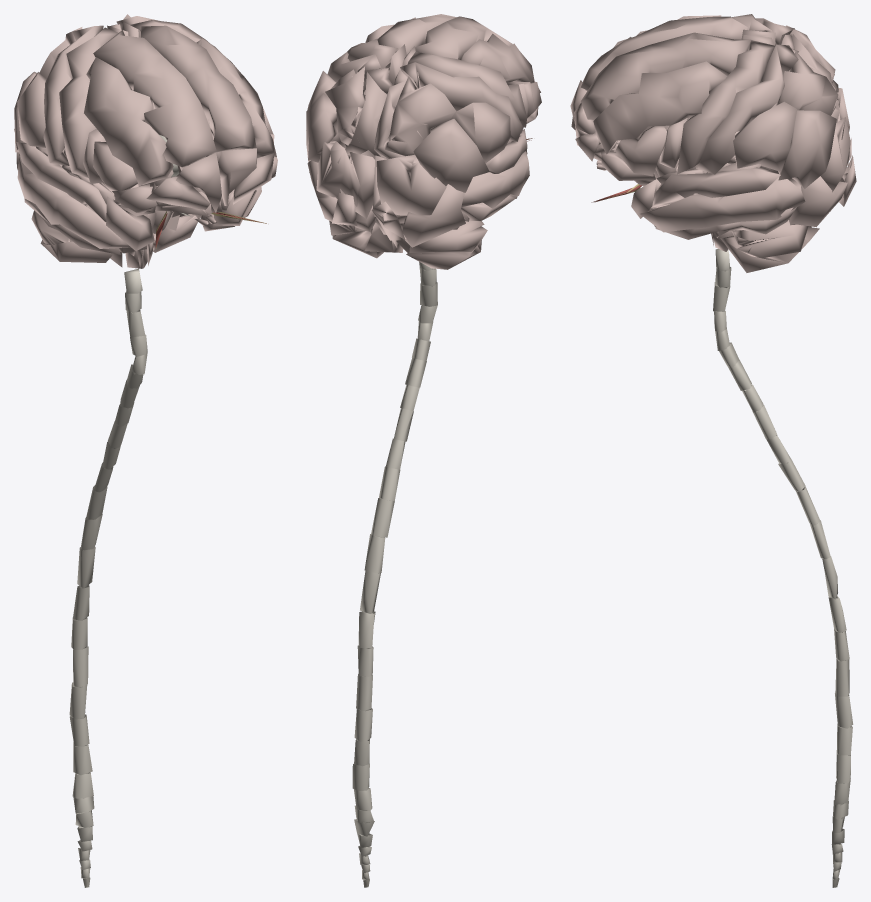
The model's file is adult_female.nervous.LOD4.glb.
3 renders of one model, left to right at view 1: azimuth 30°, elevation 25°; view 2: azimuth 150°, elevation 25°; view 3: azimuth 270°, elevation 25°, orthographic. The views are drawn at different scales.
Parts seen in each view (by area): view 1: ADULT.FEMALE.NERVOUS.SUPERIOR_FRONTAL_GYRUS.R, ADULT.FEMALE.NERVOUS.MIDDLE_FRONTAL_GYRUS.R, ADULT.FEMALE.NERVOUS.SUPERIOR_FRONTAL_GYRUS.L, ADULT.FEMALE.NERVOUS.PRECENTRAL_GYRUS.R, ADULT.FEMALE.NERVOUS.MIDDLE_TEMPORAL_GYRUS.R, ADULT.FEMALE.NERVOUS.POSTCENTRAL_GYRUS.R, ADULT.FEMALE.NERVOUS.SUPERIOR_TEMPORAL_GYRUS.R, ADULT.FEMALE.NERVOUS.MIDDLE_FRONTAL_GYRUS.L, ADULT.FEMALE.NERVOUS.SUPRAMARGINAL_GYRUS.R, ADULT.FEMALE.NERVOUS.LATERAL_HEMISPHERE_OF_CEREBELLUM.R, ADULT.FEMALE.NERVOUS.TEMPORAL_POLE.R, ADULT.FEMALE.NERVOUS.ROSTRAL_GYRUS.R (+12 smaller); view 2: ADULT.FEMALE.NERVOUS.ANGULAR_GYRUS.R, ADULT.FEMALE.NERVOUS.SUPRAPARIETAL_LOBULE.R, ADULT.FEMALE.NERVOUS.SUPERIOR_OCCIPITAL_GYRUS.R, ADULT.FEMALE.NERVOUS.POSTCENTRAL_GYRUS.R, ADULT.FEMALE.NERVOUS.LATERAL_HEMISPHERE_OF_CEREBELLUM.R, ADULT.FEMALE.NERVOUS.SUPRAMARGINAL_GYRUS.R, ADULT.FEMALE.NERVOUS.SUPERIOR_FRONTAL_GYRUS.R, ADULT.FEMALE.NERVOUS.INFERIOR_OCCIPITAL_GYRUS.R, ADULT.FEMALE.NERVOUS.PRECENTRAL_GYRUS.R, ADULT.FEMALE.NERVOUS.MIDDLE_FRONTAL_GYRUS.R, ADULT.FEMALE.NERVOUS.MIDDLE_TEMPORAL_GYRUS.R, ADULT.FEMALE.NERVOUS.SUPERIOR_OCCIPITAL_GYRUS.L (+22 smaller); view 3: ADULT.FEMALE.NERVOUS.MIDDLE_FRONTAL_GYRUS.L, ADULT.FEMALE.NERVOUS.SUPERIOR_FRONTAL_GYRUS.L, ADULT.FEMALE.NERVOUS.MIDDLE_TEMPORAL_GYRUS.L, ADULT.FEMALE.NERVOUS.PRECENTRAL_GYRUS.L, ADULT.FEMALE.NERVOUS.POSTCENTRAL_GYRUS.L, ADULT.FEMALE.NERVOUS.SUPRAMARGINAL_GYRUS.L, ADULT.FEMALE.NERVOUS.ANGULAR_GYRUS.L, ADULT.FEMALE.NERVOUS.SUPERIOR_TEMPORAL_GYRUS.L, ADULT.FEMALE.NERVOUS.LATERAL_HEMISPHERE_OF_CEREBELLUM.L, ADULT.FEMALE.NERVOUS.SUPERIOR_FRONTAL_GYRUS.R, ADULT.FEMALE.NERVOUS.SUPRAPARIETAL_LOBULE.L, ADULT.FEMALE.NERVOUS.INFERIOR_FRONTAL_GYRUS_TRIANGULAR_PART. (+6 smaller).
Part boxes in pixels (x1,y1,x2,y2): ADULT.FEMALE.NERVOUS.SUPERIOR_FRONTAL_GYRUS.R: (93, 30, 216, 167); ADULT.FEMALE.NERVOUS.MIDDLE_FRONTAL_GYRUS.R: (84, 57, 173, 185); ADULT.FEMALE.NERVOUS.SUPERIOR_FRONTAL_GYRUS.L: (141, 25, 256, 152); ADULT.FEMALE.NERVOUS.PRECENTRAL_GYRUS.R: (59, 27, 117, 177); ADULT.FEMALE.NERVOUS.MIDDLE_TEMPORAL_GYRUS.R: (17, 154, 130, 248); ADULT.FEMALE.NERVOUS.POSTCENTRAL_GYRUS.R: (43, 25, 103, 165); ADULT.FEMALE.NERVOUS.SUPERIOR_TEMPORAL_GYRUS.R: (16, 142, 106, 221); ADULT.FEMALE.NERVOUS.MIDDLE_FRONTAL_GYRUS.L: (196, 38, 276, 156); ADULT.FEMALE.NERVOUS.SUPRAMARGINAL_GYRUS.R: (17, 72, 46, 147); ADULT.FEMALE.NERVOUS.LATERAL_HEMISPHERE_OF_CEREBELLUM.R: (31, 210, 113, 262); ADULT.FEMALE.NERVOUS.TEMPORAL_POLE.R: (106, 196, 154, 251); ADULT.FEMALE.NERVOUS.ROSTRAL_GYRUS.R: (176, 152, 221, 212); ADULT.FEMALE.NERVOUS.ANGULAR_GYRUS.R: (413, 119, 489, 192); ADULT.FEMALE.NERVOUS.SUPRAPARIETAL_LOBULE.R: (384, 76, 456, 155); ADULT.FEMALE.NERVOUS.SUPERIOR_OCCIPITAL_GYRUS.R: (376, 154, 446, 215); ADULT.FEMALE.NERVOUS.POSTCENTRAL_GYRUS.R: (400, 62, 522, 141); ADULT.FEMALE.NERVOUS.LATERAL_HEMISPHERE_OF_CEREBELLUM.R: (406, 220, 487, 269); ADULT.FEMALE.NERVOUS.SUPRAMARGINAL_GYRUS.R: (450, 102, 510, 163); ADULT.FEMALE.NERVOUS.SUPERIOR_FRONTAL_GYRUS.R: (415, 16, 512, 59); ADULT.FEMALE.NERVOUS.INFERIOR_OCCIPITAL_GYRUS.R: (402, 184, 465, 247); ADULT.FEMALE.NERVOUS.PRECENTRAL_GYRUS.R: (407, 52, 527, 133); ADULT.FEMALE.NERVOUS.MIDDLE_FRONTAL_GYRUS.R: (460, 33, 534, 83); ADULT.FEMALE.NERVOUS.MIDDLE_TEMPORAL_GYRUS.R: (461, 151, 529, 208); ADULT.FEMALE.NERVOUS.SUPERIOR_OCCIPITAL_GYRUS.L: (316, 141, 360, 206); ADULT.FEMALE.NERVOUS.MIDDLE_FRONTAL_GYRUS.L: (593, 61, 727, 154); ADULT.FEMALE.NERVOUS.SUPERIOR_FRONTAL_GYRUS.L: (581, 32, 751, 119); ADULT.FEMALE.NERVOUS.MIDDLE_TEMPORAL_GYRUS.L: (640, 171, 805, 232); ADULT.FEMALE.NERVOUS.PRECENTRAL_GYRUS.L: (676, 40, 775, 174); ADULT.FEMALE.NERVOUS.POSTCENTRAL_GYRUS.L: (697, 44, 798, 174); ADULT.FEMALE.NERVOUS.SUPRAMARGINAL_GYRUS.L: (733, 101, 797, 171); ADULT.FEMALE.NERVOUS.ANGULAR_GYRUS.L: (778, 110, 836, 188); ADULT.FEMALE.NERVOUS.SUPERIOR_TEMPORAL_GYRUS.L: (651, 166, 780, 207); ADULT.FEMALE.NERVOUS.LATERAL_HEMISPHERE_OF_CEREBELLUM.L: (718, 220, 819, 272); ADULT.FEMALE.NERVOUS.SUPERIOR_FRONTAL_GYRUS.R: (581, 16, 747, 90); ADULT.FEMALE.NERVOUS.SUPRAPARIETAL_LOBULE.L: (774, 51, 838, 115); ADULT.FEMALE.NERVOUS.INFERIOR_FRONTAL_GYRUS_TRIANGULAR_PART.: (615, 126, 666, 176).
Bounding box in the file's own units: 0.1368 × 0.5544 × 0.1674.
